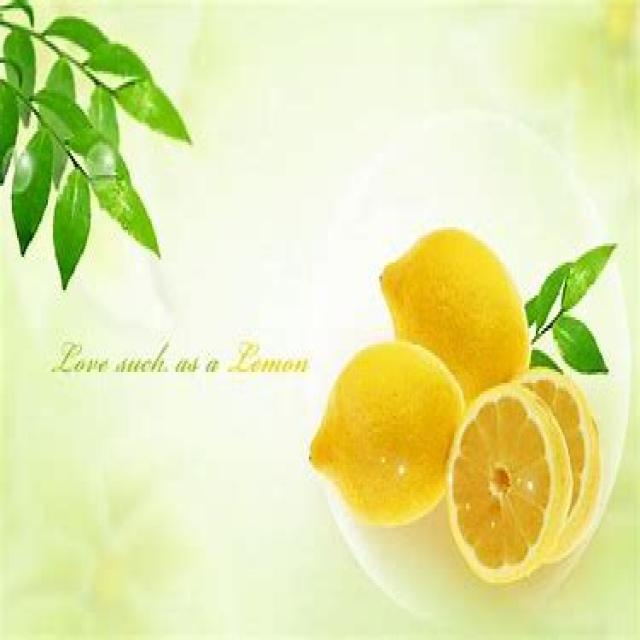lemon: (296, 349, 466, 529), (442, 380, 571, 582), (377, 224, 538, 384)
